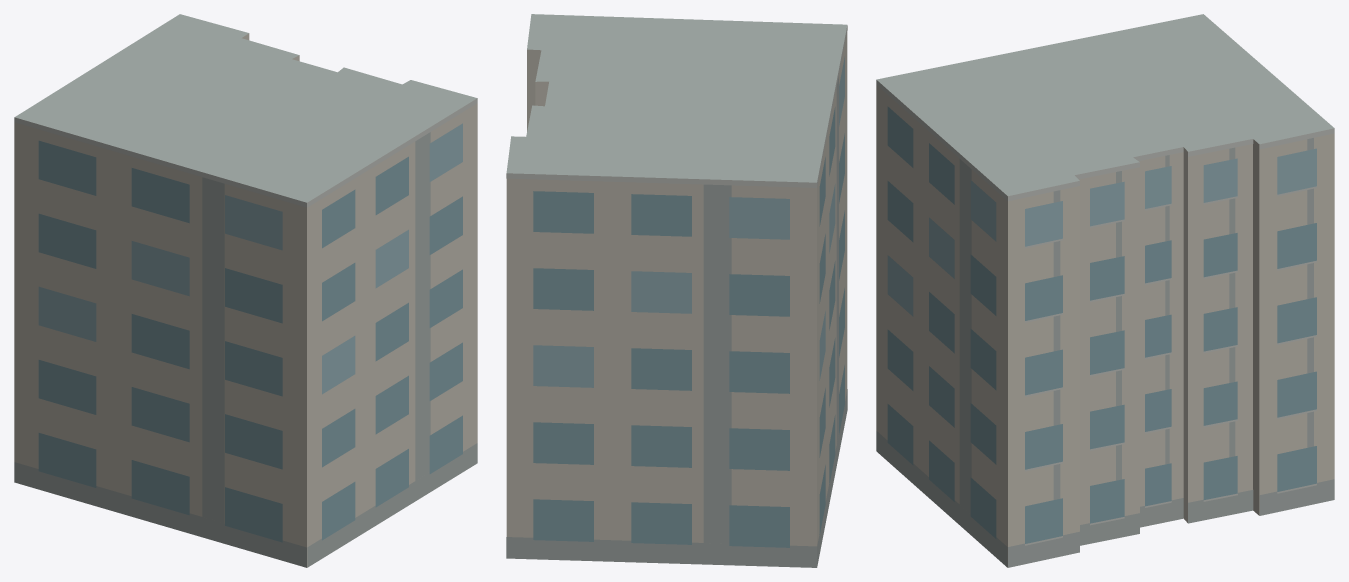
The model's file is survey-upis-32826160.glb.
The picture shows the model from 3 angles, left to right: view 1: azimuth 30°, elevation 25°; view 2: azimuth 150°, elevation 25°; view 3: azimuth 270°, elevation 25°; orthographic projection. The views are drawn at different scales.
Visible parts, largest first — view 1: survey-upis-32826160.tmp; view 2: survey-upis-32826160.tmp; view 3: survey-upis-32826160.tmp.
Boxes of the visible parts, x1=… form: survey-upis-32826160.tmp: x1=14, y1=14, x2=477, y2=567; survey-upis-32826160.tmp: x1=506, y1=14, x2=847, y2=567; survey-upis-32826160.tmp: x1=876, y1=14, x2=1334, y2=567.
Size of the model in its own units: 18.73 by 17.8 by 19.91.
